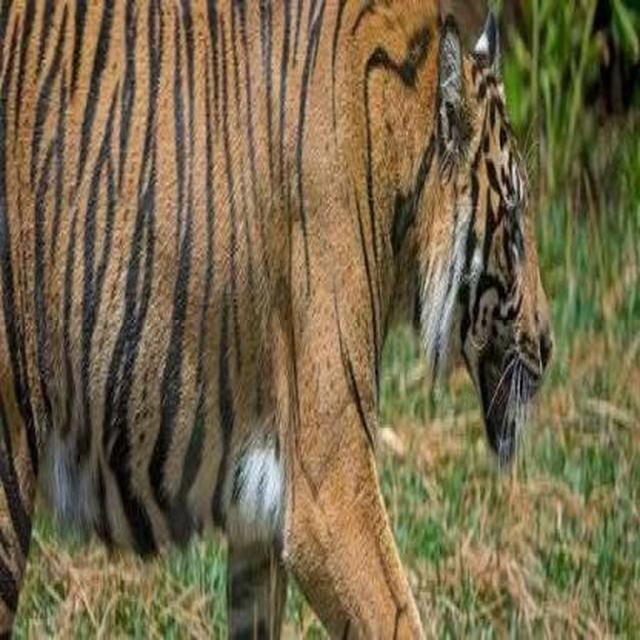tiger: (0, 0, 556, 639)
